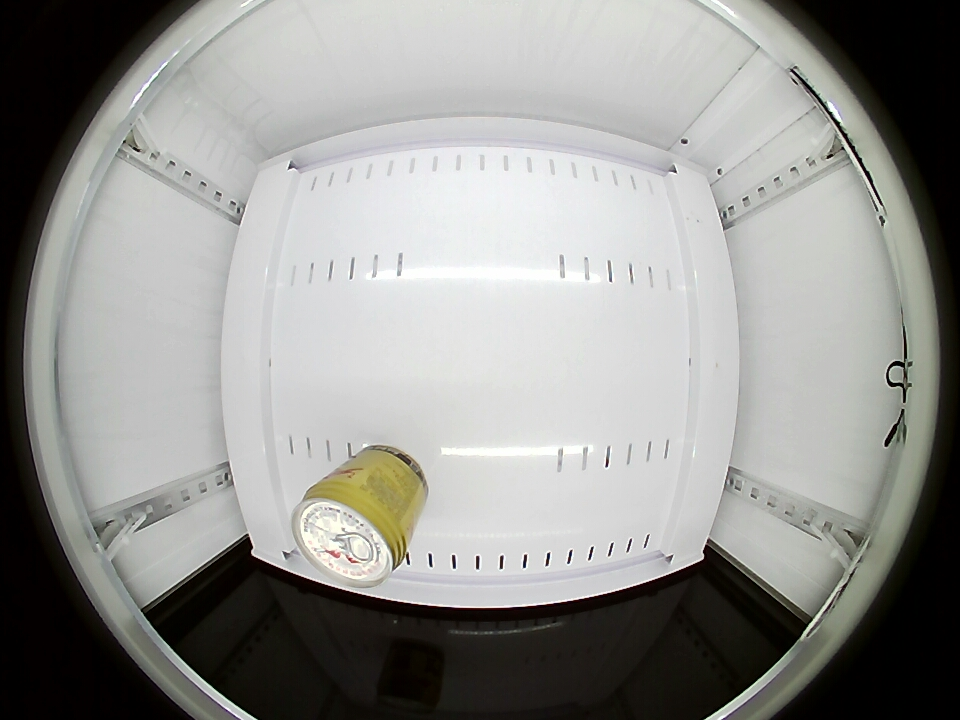hongniu2: (292, 476, 412, 588)
